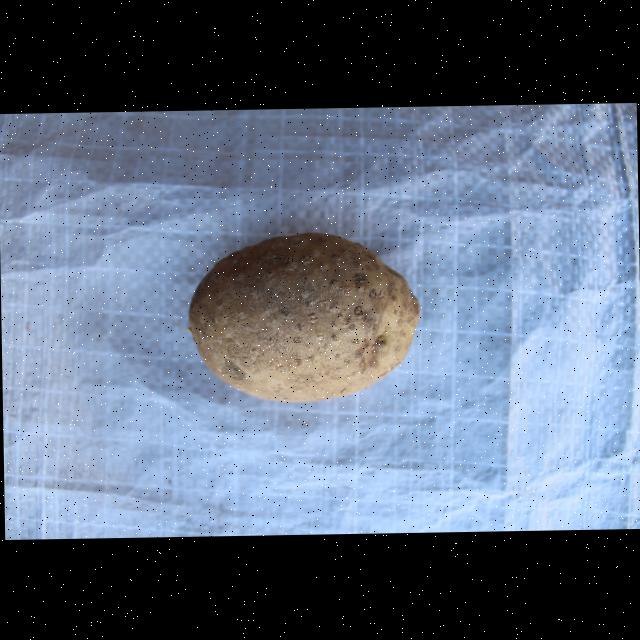Diseased-fungal potato: (182, 228, 426, 406)
